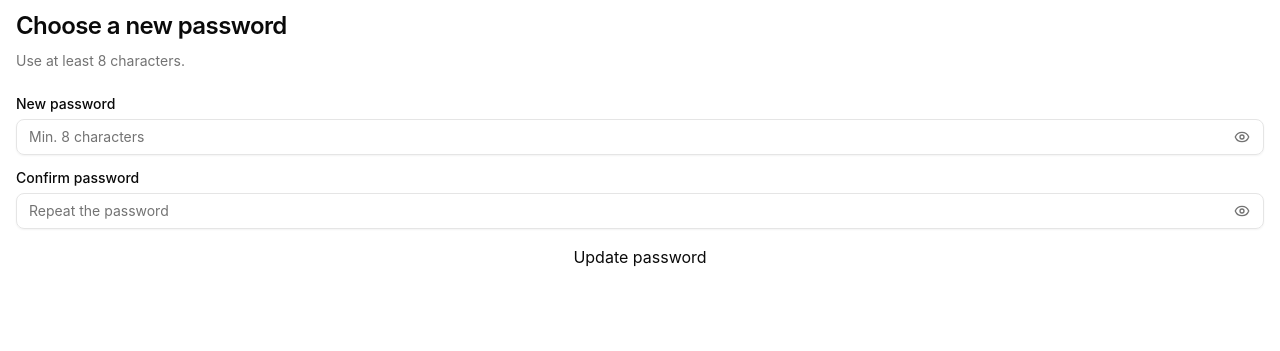
Test: account recovery › rejects a short password and saves a matching one
The width and height of the screenshot is (1280, 351).
In the password field labelled "New password": [640, 137] box [16,119,1264,155], type "short"
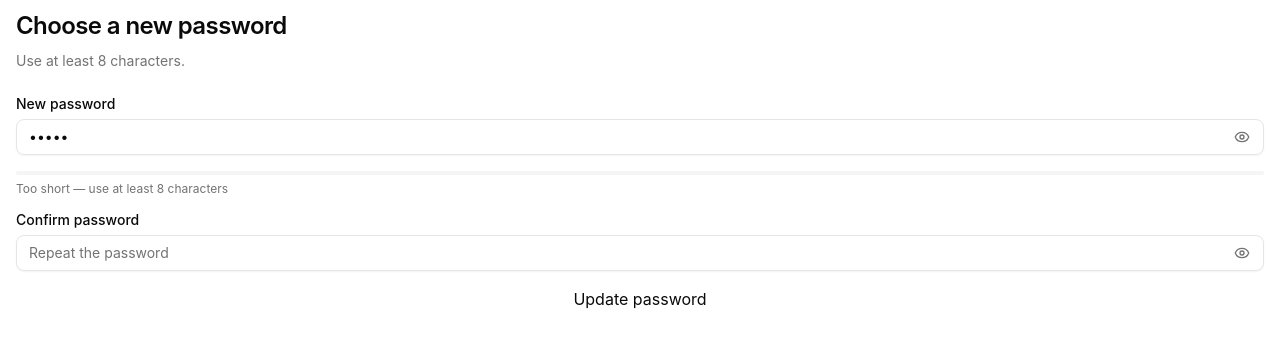
In the password field labelled "Confirm password": [640, 253] box [16,235,1264,271], type "short"
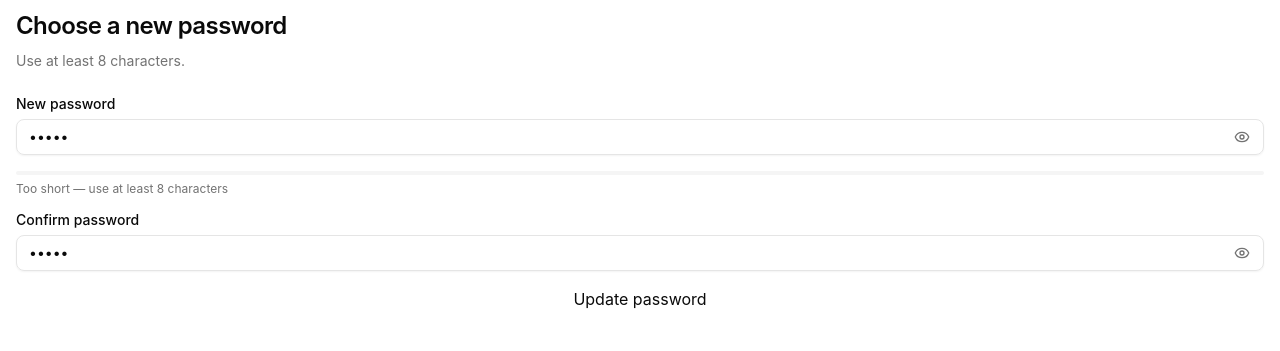
Click the button "Update password": [640, 299] box [16,287,1264,311]
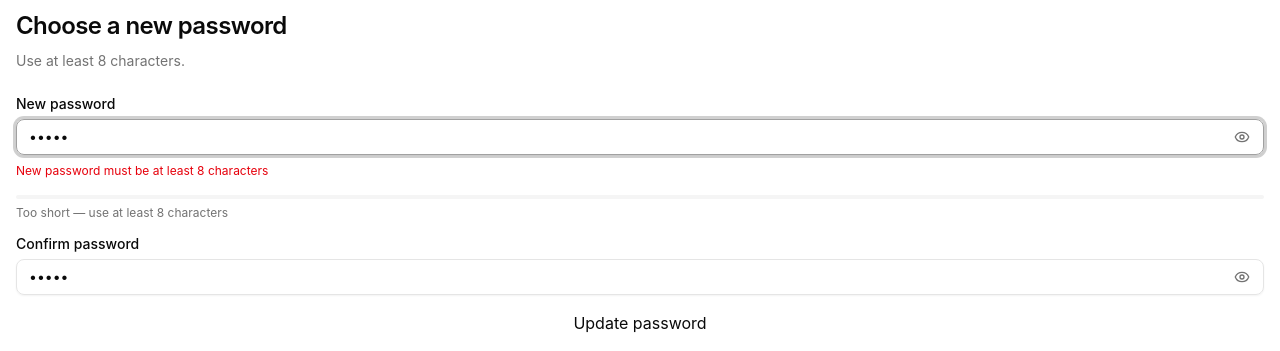
Result: the text "New password must be at least 8 characters" is shown at [16,163,268,178]
In the password field labelled "New password": [640, 137] box [16,119,1264,155], type "LongPassword1"
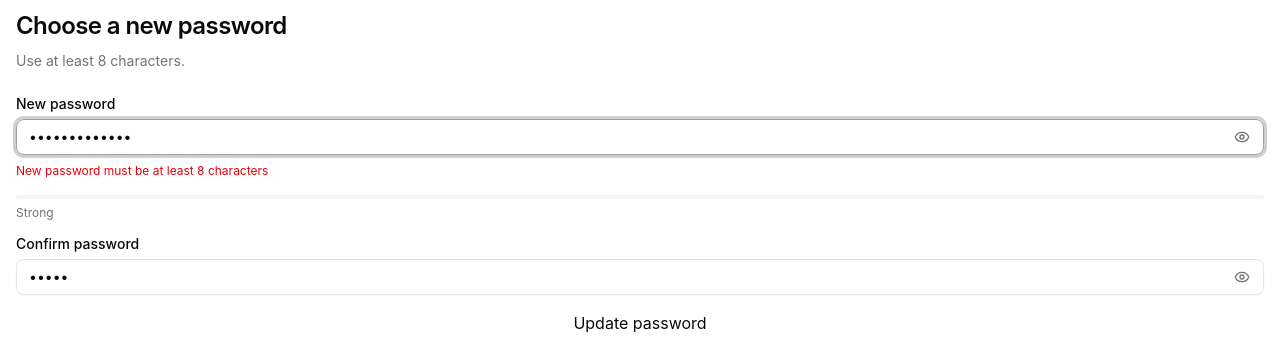
In the password field labelled "Confirm password": [640, 277] box [16,259,1264,295], type "LongPassword1"
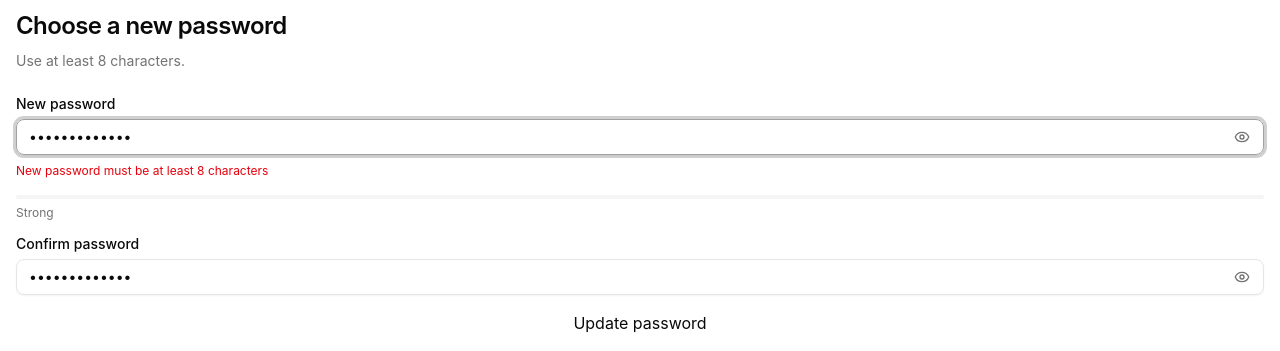
Click the button "Update password": [640, 323] box [16,311,1264,335]
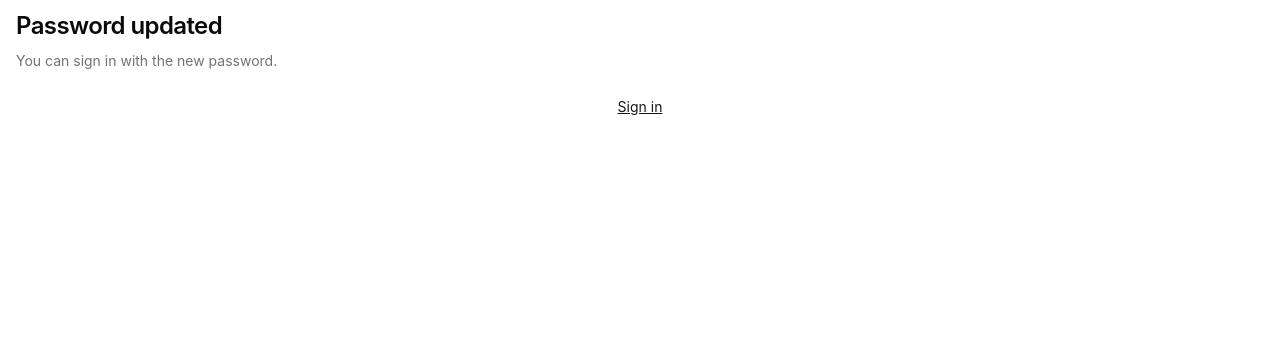
Result: the text "You can sign in with the new password." is shown at [16,52,277,69]
